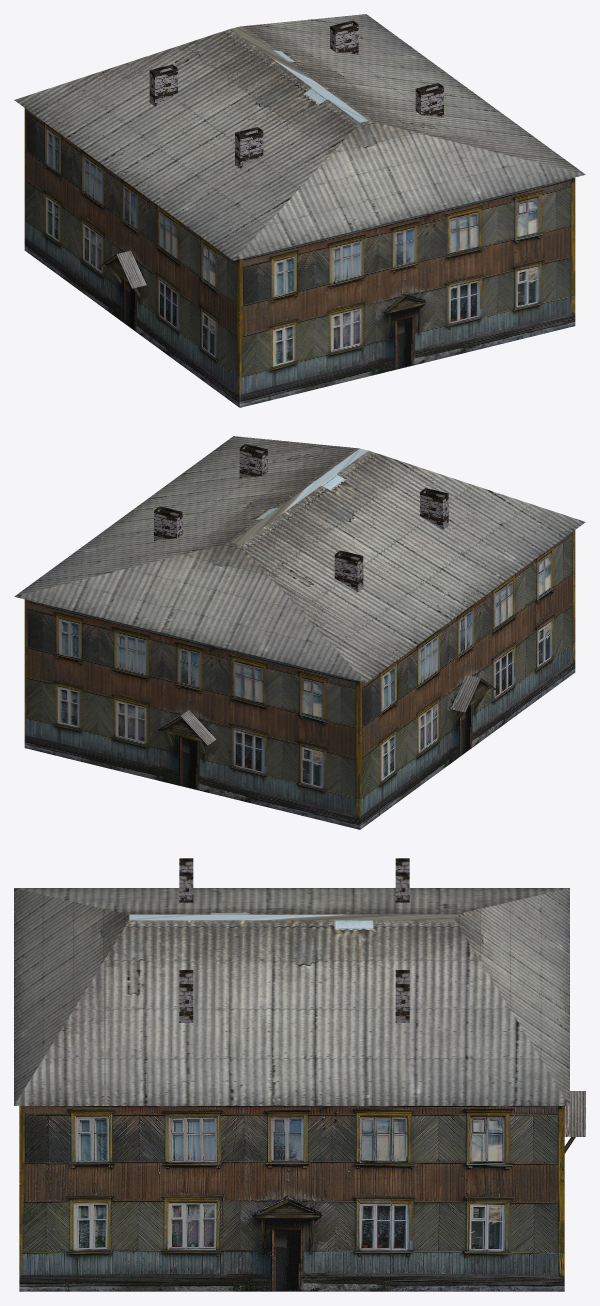
The model's file is house.obj.
3 views of the same model, one above another, from view 1: azimuth 30°, elevation 25°; view 2: azimuth 150°, elevation 25°; view 3: azimuth 270°, elevation 25° (orthographic). The views are drawn at different scales.
Visible parts, largest first — view 1: Object002_Untitled; view 2: Object002_Untitled; view 3: Object002_Untitled.
Part boxes in pixels (left/top/right/bottom): Object002_Untitled: left=14, top=14, right=585, bottom=407; Object002_Untitled: left=14, top=436, right=585, bottom=829; Object002_Untitled: left=14, top=858, right=585, bottom=1291.
Bounding box in the file's own units: 14.93 × 8.5 × 16.29.
